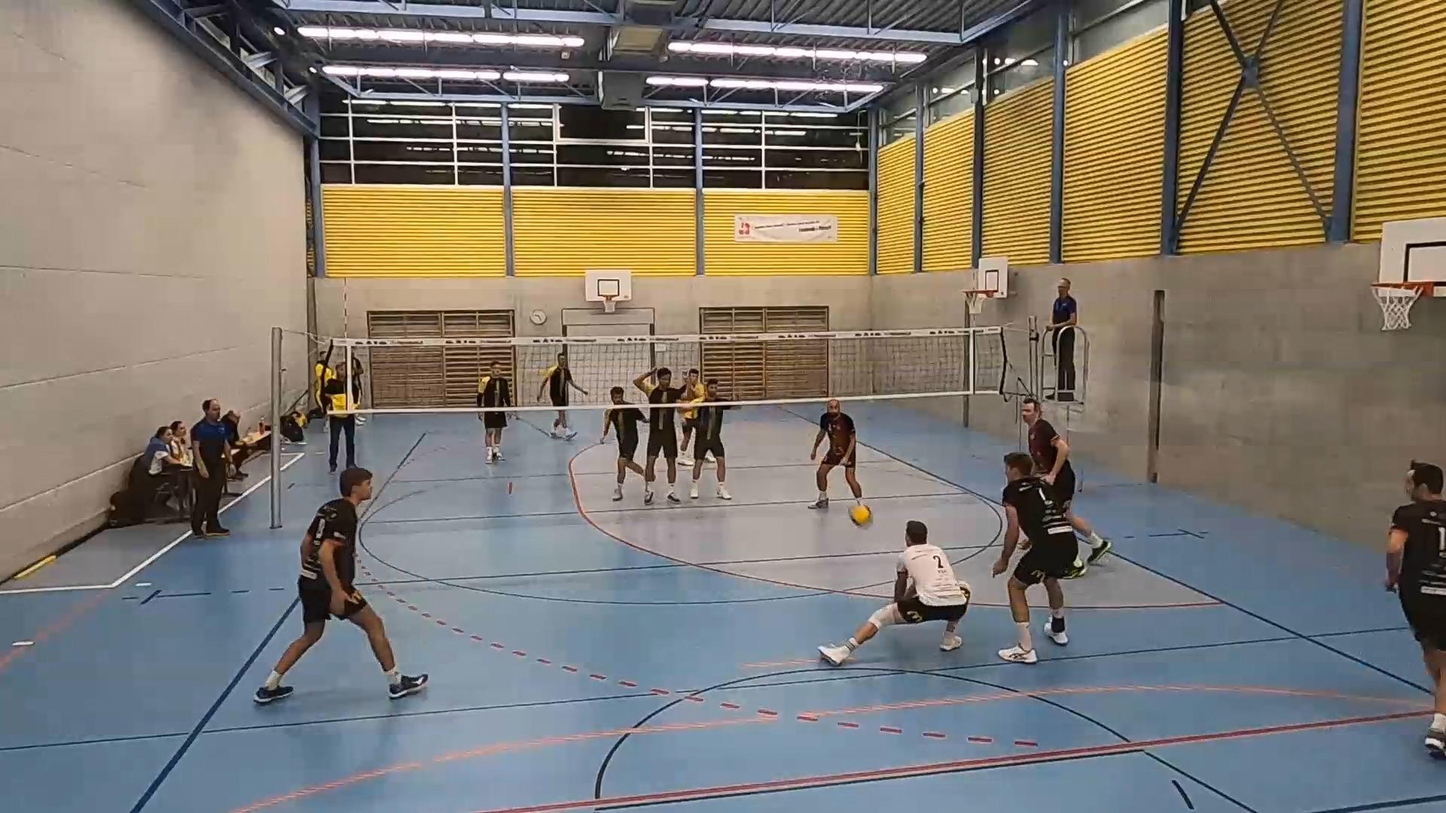ricezione: (819, 526, 973, 667)
